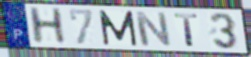3: (207, 11, 240, 51)
7: (68, 8, 95, 46)
H: (27, 6, 68, 46)
M: (97, 9, 140, 47)
N: (133, 10, 174, 48)
T: (173, 13, 201, 48)
